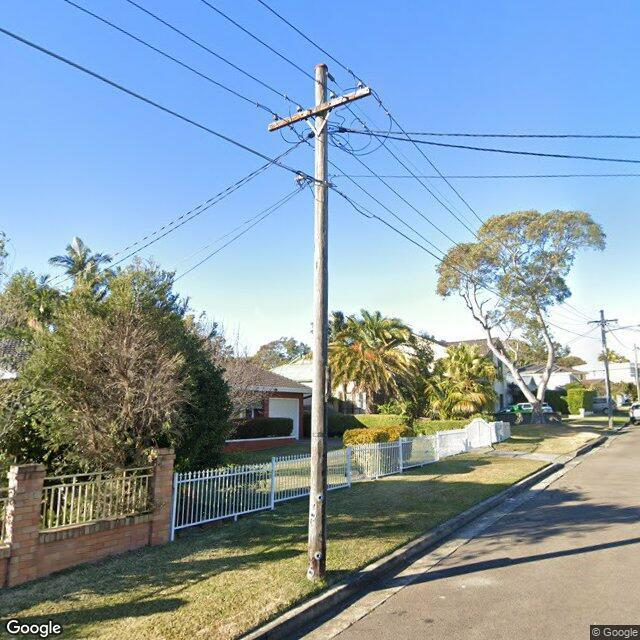crossarm: (268, 87, 371, 131), (587, 318, 617, 324)
timber-pole: (308, 64, 327, 580), (600, 309, 614, 429), (633, 343, 640, 402)
